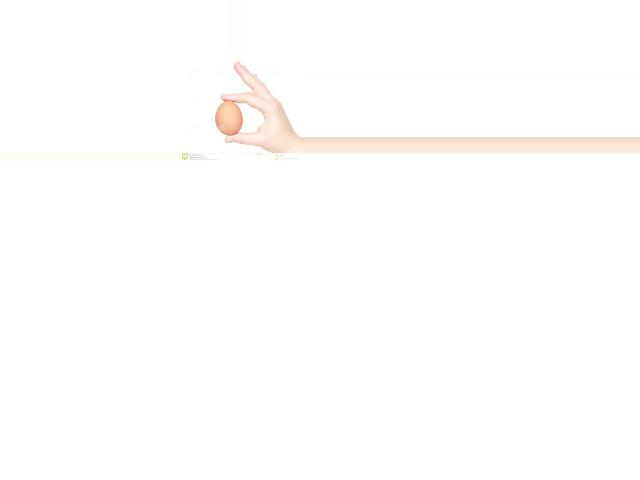egg: (215, 100, 243, 136)
